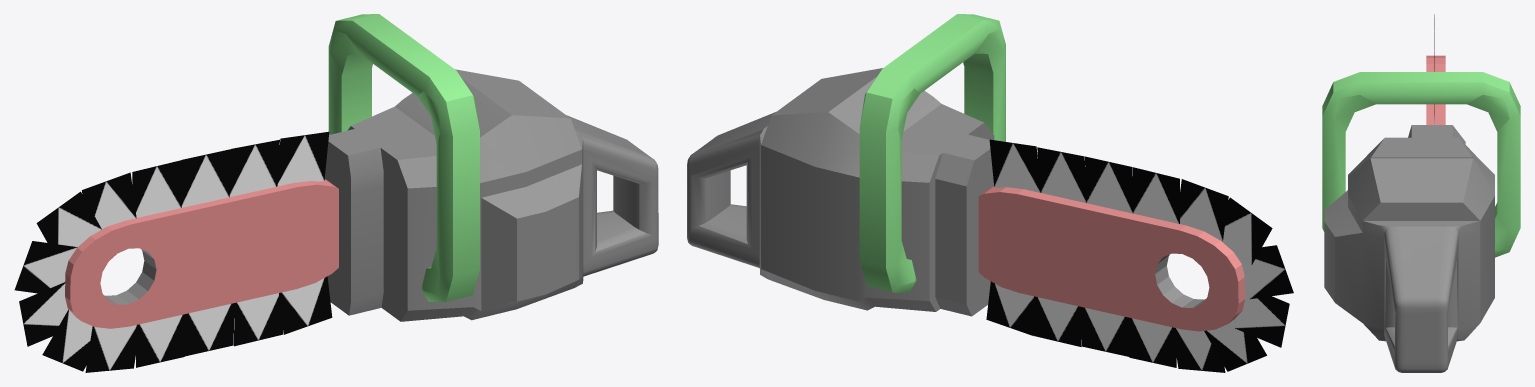
File: ChainSaw.fbx
3 views of the same model, side by side, from view 1: azimuth 30°, elevation 25°; view 2: azimuth 150°, elevation 25°; view 3: azimuth 270°, elevation 25° (orthographic). The views are drawn at different scales.
Visible parts, largest first — view 1: SM_Chainsaw; view 2: SM_Chainsaw; view 3: SM_Chainsaw.
Boxes of the visible parts, box(x1,y1,x2,y2) form: SM_Chainsaw: box(14, 14, 658, 372); SM_Chainsaw: box(687, 14, 1293, 372); SM_Chainsaw: box(1322, 14, 1520, 372).
Bounding box in the file's own units: 179 × 73.86 × 62.03.
